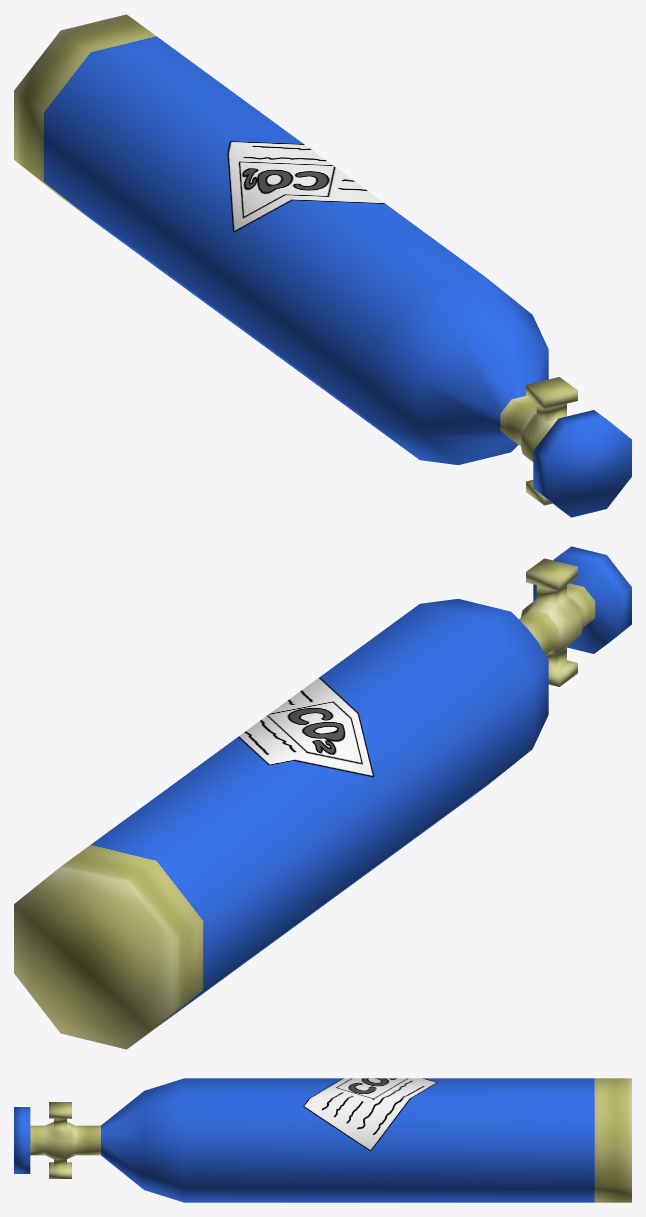
3 views of the same model, one above another, from view 1: azimuth 30°, elevation 25°; view 2: azimuth 150°, elevation 25°; view 3: azimuth 270°, elevation 25° (orthographic). The views are drawn at different scales.
Visible parts, largest first — view 1: CO2; view 2: CO2; view 3: CO2.
Part boxes in pixels (x1,y1,x2,y2): CO2: (14, 14, 631, 517); CO2: (14, 546, 631, 1049); CO2: (14, 1078, 631, 1202).
Bounding box in the file's own units: 22.27 × 22.27 × 120.
